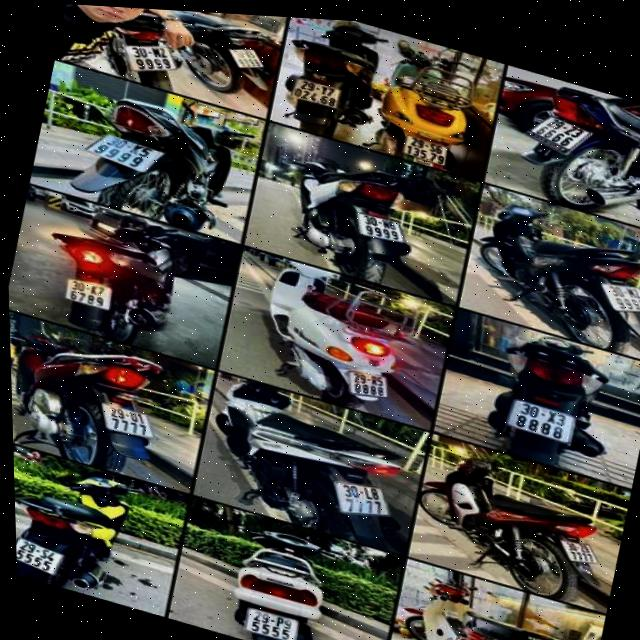motorcycle: (193, 372, 425, 554), (406, 441, 622, 610), (240, 254, 436, 426), (62, 79, 259, 248), (466, 195, 640, 361), (9, 316, 176, 487), (469, 328, 640, 484), (495, 72, 640, 235), (13, 450, 157, 606), (26, 213, 179, 356), (281, 143, 431, 288), (210, 515, 353, 640), (382, 562, 603, 640), (76, 5, 191, 96), (271, 35, 370, 140), (375, 87, 476, 175)
plate: (101, 23, 184, 85), (518, 105, 598, 162), (87, 126, 167, 180), (503, 395, 580, 447), (326, 474, 398, 528), (92, 395, 156, 443), (348, 205, 414, 250), (233, 601, 308, 640), (58, 270, 121, 316), (287, 73, 346, 113), (16, 534, 69, 578), (593, 274, 640, 320), (340, 363, 391, 405), (403, 134, 457, 172), (551, 530, 603, 569)
